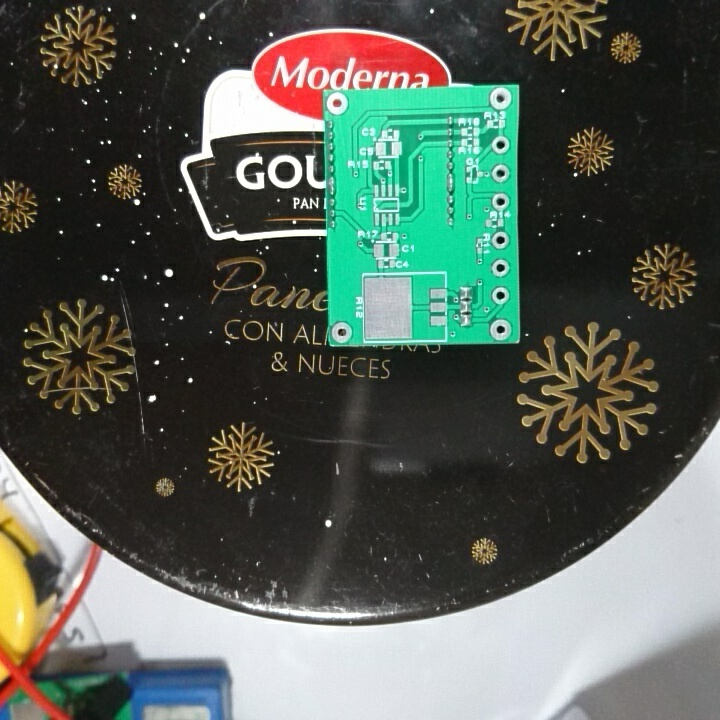F: (487, 316, 515, 341), (489, 87, 515, 112), (325, 90, 350, 115), (330, 318, 355, 343), (490, 254, 512, 279), (490, 230, 513, 252), (490, 133, 512, 155), (490, 283, 512, 305), (490, 189, 511, 212), (490, 163, 511, 185)
P: (444, 169, 459, 195), (325, 173, 341, 196)
